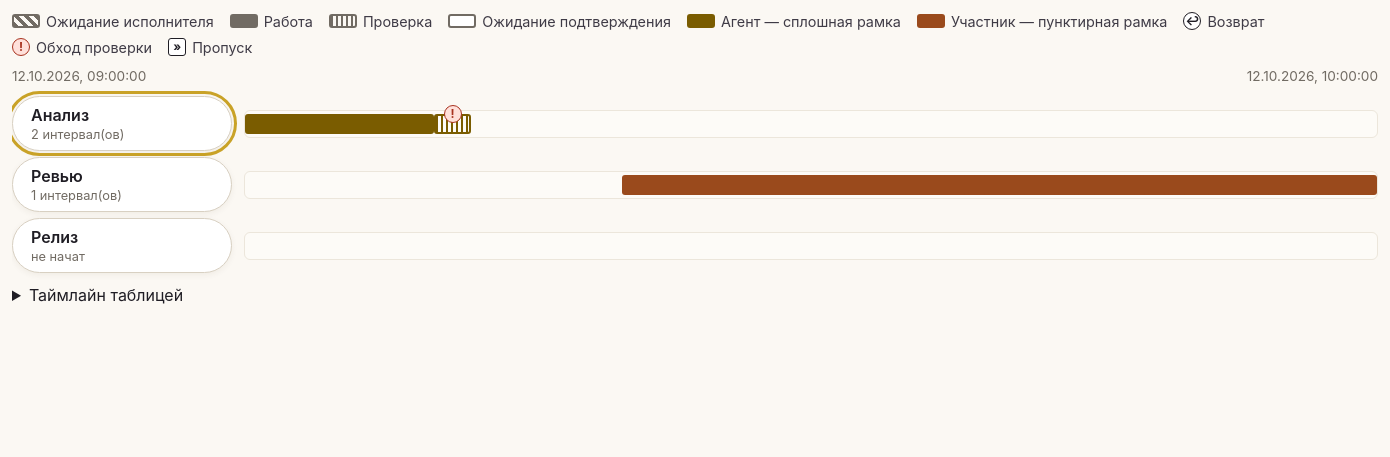
it: TaskTimeline › supports keyboard navigation between lanes and closing the card with Escape
Press ArrowDown in the button "Анализ 2 интервал(ов)", box [12,96,232,151]
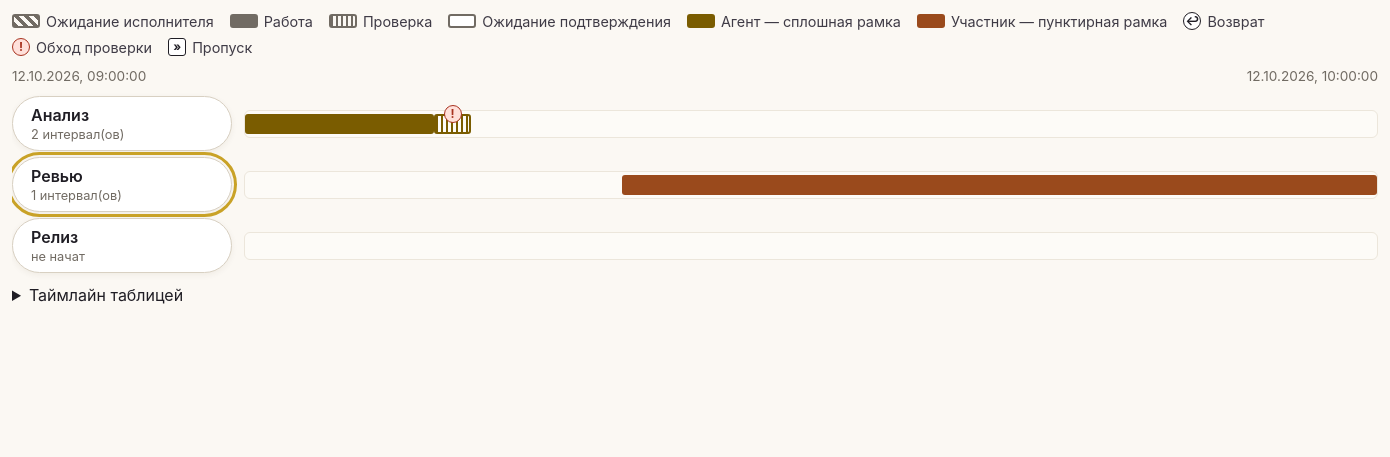
Press End in the button "Ревью 1 интервал(ов)", box [12,157,232,212]
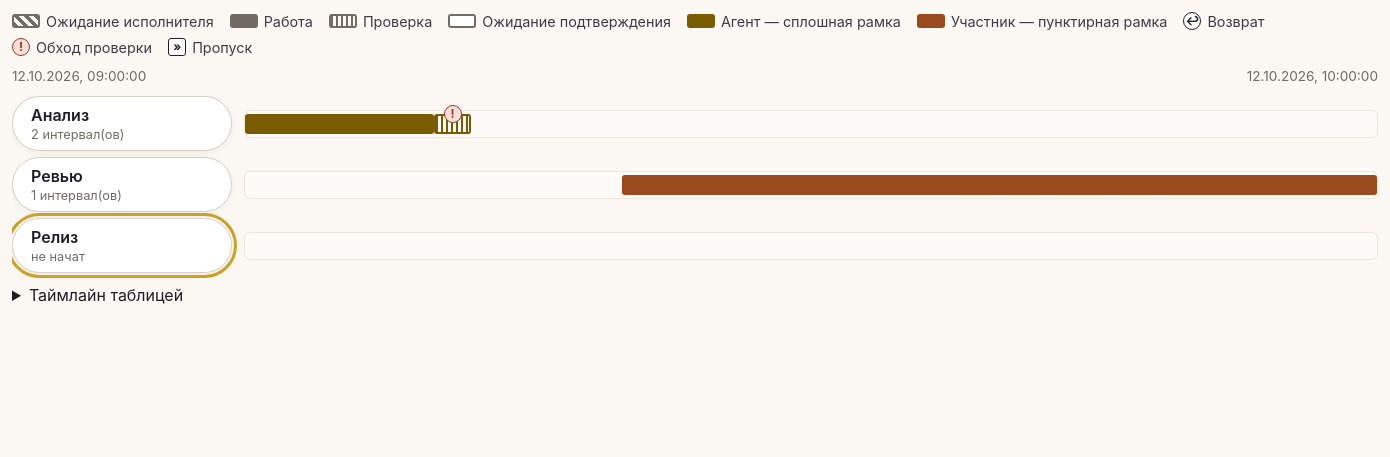
Press ArrowDown in the button "Релиз не начат", box [12,218,232,273]
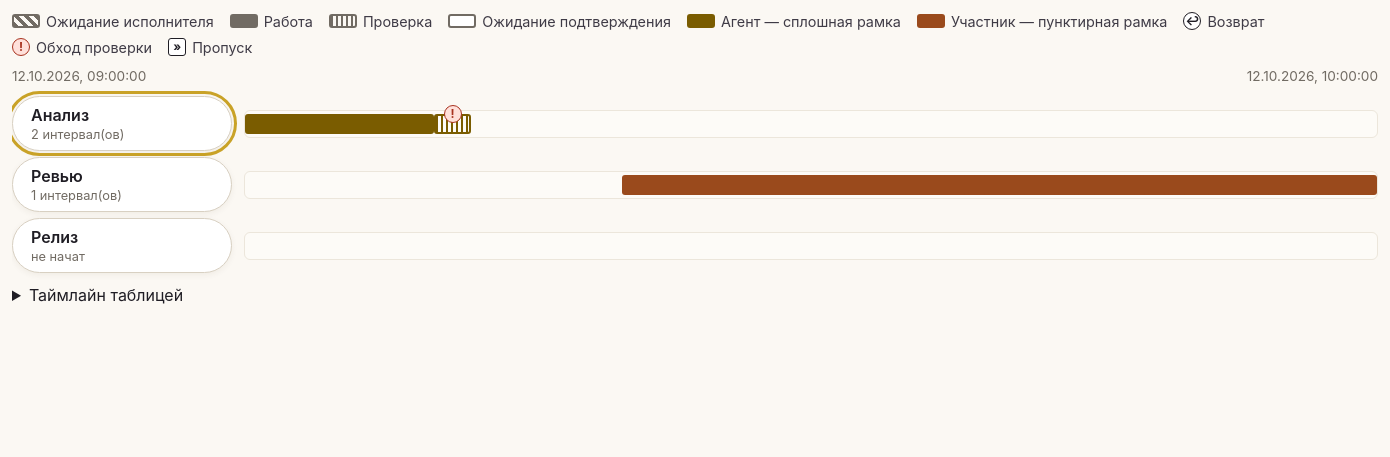
Click the button "Релиз не начат" at (122, 246), box [12,218,232,273]
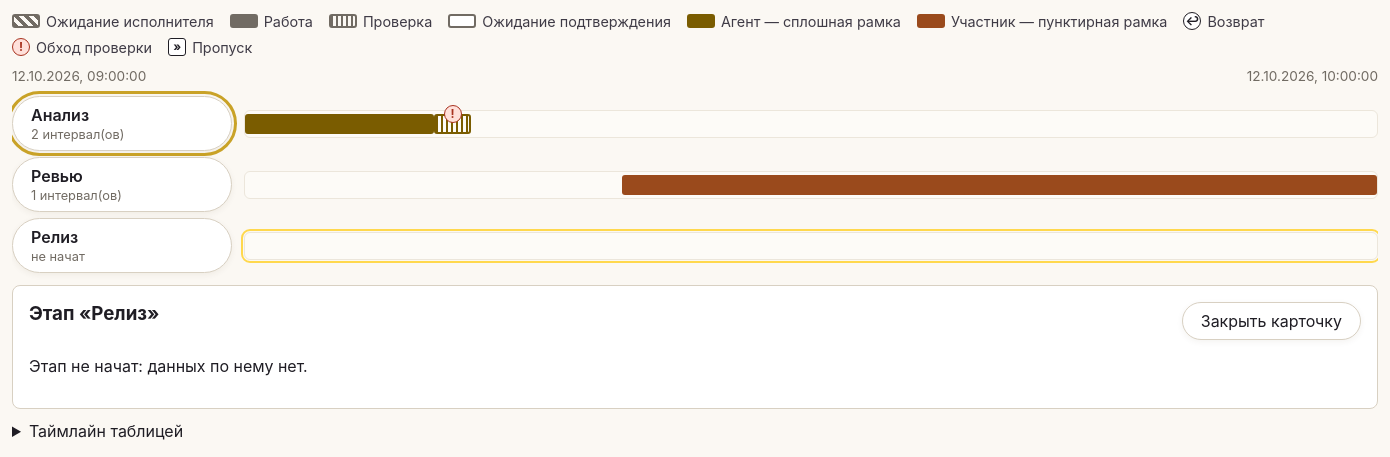
Now the element "Этап «Релиз»" shows "Этап не начат", box [29,356,308,376]
Press Escape in the button "Закрыть карточку", box [1182,302,1361,340]
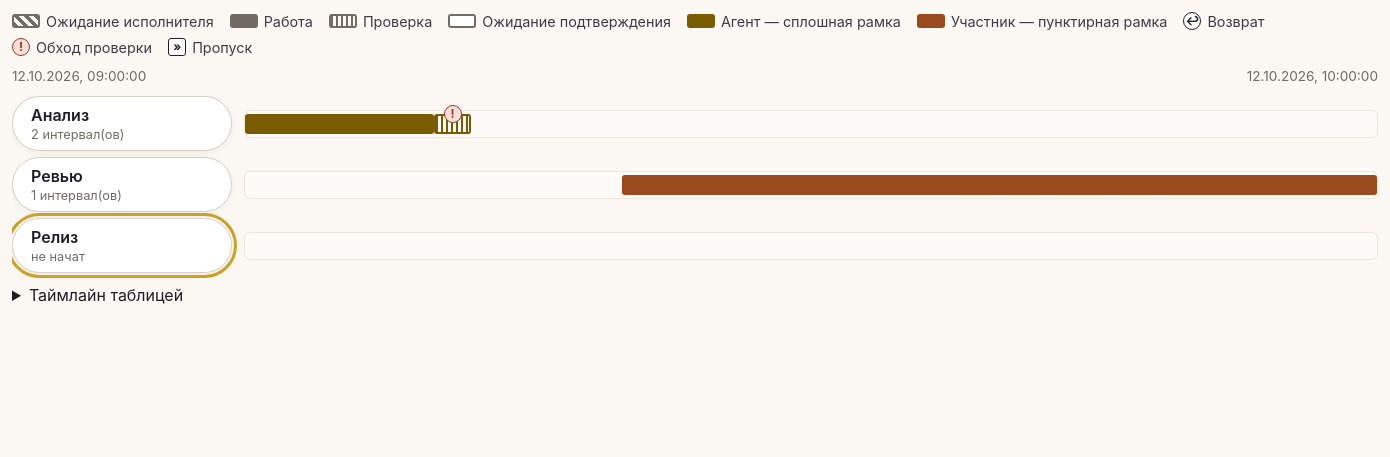
Now the heading "Этап «Релиз»" is gone
